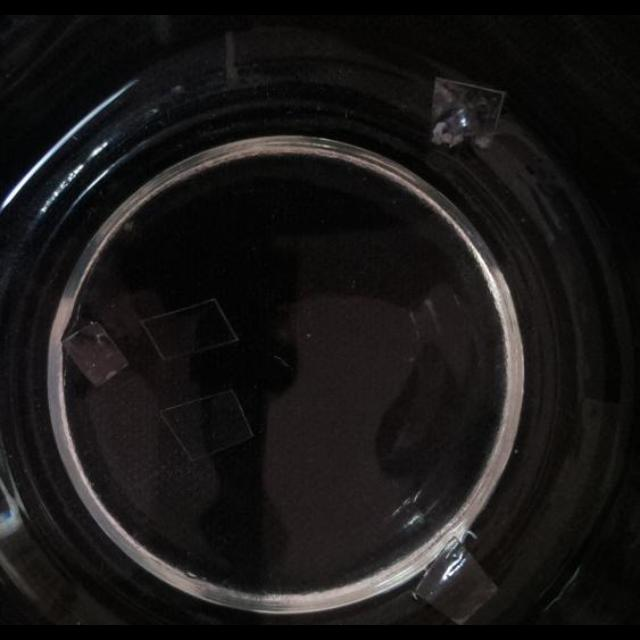Film: (406, 538, 500, 624), (160, 389, 256, 459), (140, 298, 238, 359), (431, 78, 505, 148), (60, 320, 132, 388)
